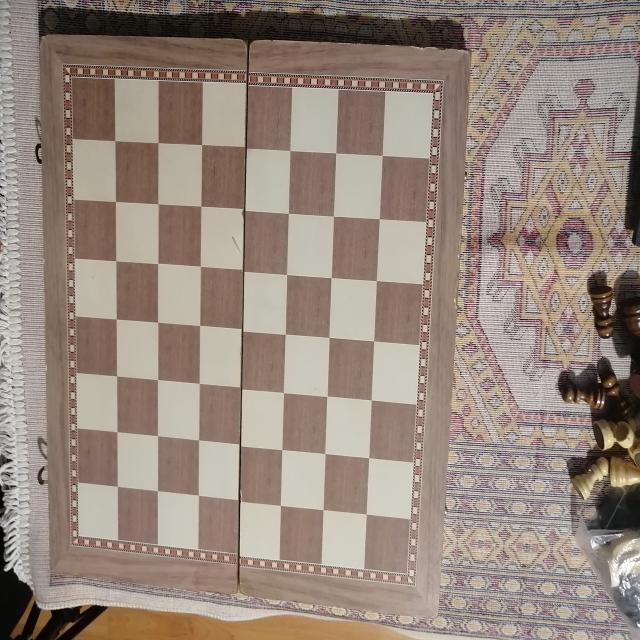corners: (34, 21, 59, 50), (458, 41, 480, 71), (424, 602, 448, 628), (46, 572, 68, 592)
